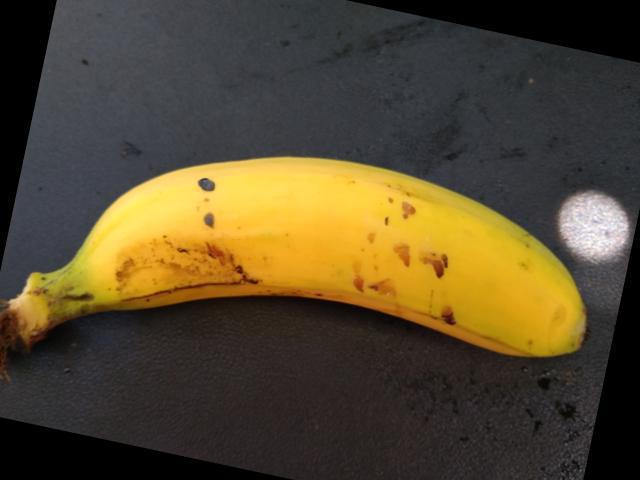ripe: (78, 136, 621, 420)
